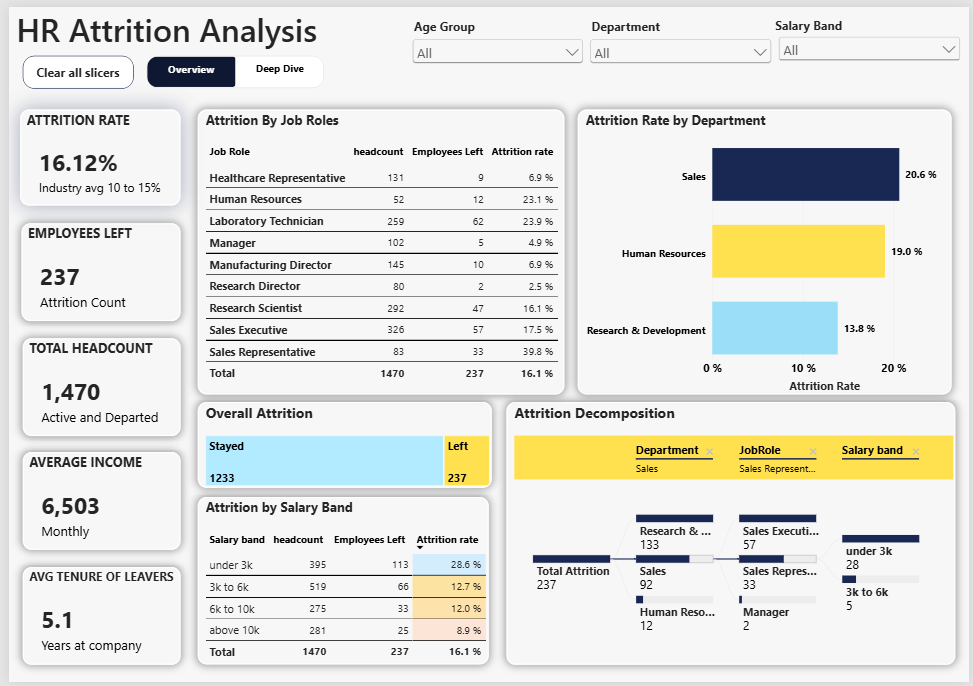

Layout of this report page (visuals, bound fields, positions):
{"tool":"powerbi","page":{"name":"Overview","canvas":[1280,900],"ordinal":0},"visuals":[{"type":"textbox","box":[10,0,410,58],"z":0},{"type":"slicer","fields":{"Values":["employees_data.Salary band"]},"box":[1022.1,34.7,251.2,38.8],"z":0,"group":"g3"},{"type":"slicer","fields":{"Values":["employees_data.Department"]},"box":[770.2,37.1,251.2,38.8],"z":0,"group":"g2"},{"type":"slicer","fields":{"Values":["employees_data.Age group"]},"box":[533,37.6,237.1,38.2],"z":0,"group":"g1"},{"type":"textbox","box":[1022.2,13,95.4,24.4],"z":1000,"group":"g3"},{"type":"group","id":"g1","title":"Group 1","box":[533,14.4,237.1,61.4],"z":1000},{"type":"textbox","box":[540.2,14.4,111.3,24.6],"z":1000,"group":"g1"},{"type":"textbox","box":[776.3,14.4,95.4,24.4],"z":1000,"group":"g2"},{"type":"group","id":"g2","title":"Group 2","box":[770.2,14.4,251.4,61.4],"z":2000},{"type":"group","id":"g3","title":"Group 2","box":[1022.1,13,251.2,60.6],"z":3000},{"type":"actionButton","box":[18.8,65,148,44],"z":4000},{"type":"pageNavigator","box":[183.1,64.6,236.7,43.3],"z":5000},{"type":"cardVisual","title":"ATTRITION RATE","fields":{"Data":["employees_data.Attrition rate"]},"box":[15,136.7,213.3,128.3],"z":6000},{"type":"cardVisual","title":"EMPLOYEES LEFT","fields":{"Data":["employees_data.Employees Left"]},"box":[16.7,288.3,211.7,130],"z":7000},{"type":"cardVisual","title":"TOTAL HEADCOUNT","fields":{"Data":["employees_data.headcount"]},"box":[18.3,441.7,210,130],"z":8000},{"type":"cardVisual","title":"AVERAGE INCOME","fields":{"Data":["employees_data.Avg monthly income"]},"box":[18.3,593.3,210,130],"z":9000},{"type":"cardVisual","title":"AVG TENURE OF LEAVERS","fields":{"Data":["employees_data.Avg Tenure of leavers"]},"box":[18.3,746.7,210,130],"z":10000},{"type":"clusteredBarChart","title":"Attrition Rate by Department","fields":{"Category":["employees_data.Department"],"Y":["employees_data.Attrition rate"]},"box":[758.3,136.7,498.3,380],"z":11000},{"type":"decompositionTreeVisual","title":"Attrition Decomposition","fields":{"Analyze":["employees_data.Employees Left"],"ExplainBy":["employees_data.Department","employees_data.JobRole","employees_data.Salary band"]},"box":[663.3,526.7,598.3,350],"z":12000},{"type":"pivotTable","title":"Attrition By Job Roles","fields":{"Rows":["employees_data.JobRole"],"Values":["employees_data.headcount","employees_data.Employees Left","employees_data.Attrition rate"]},"box":[251.2,136.2,488.8,380],"z":13000},{"type":"pivotTable","title":"Attrition by Salary Band","fields":{"Rows":["employees_data.Salary band"],"Values":["employees_data.headcount","employees_data.Employees Left","employees_data.Attrition rate"]},"box":[252,654,388,223],"z":14000},{"type":"treemap","title":"Overall Attrition ","fields":{"Values":["employees_data.Employees Left","employees_data.Employees Stayed"]},"box":[252,527,392,114],"z":15001}]}

Visuals, with their boxes in screenshot pixels (x1, y1, x2, y2), scaled from the page's 1280x900 canvas onto the 973x686 screenshot:
textbox: box(8, 0, 319, 44)
slicer - employees_data.Salary band: box(777, 26, 968, 56)
slicer - employees_data.Department: box(585, 28, 776, 58)
slicer - employees_data.Age group: box(405, 29, 585, 58)
textbox: box(777, 10, 850, 29)
"Group 1" group: box(405, 11, 585, 58)
textbox: box(411, 11, 495, 30)
textbox: box(590, 11, 663, 30)
"Group 2" group: box(585, 11, 777, 58)
"Group 2" group: box(777, 10, 968, 56)
actionButton: box(14, 50, 127, 83)
pageNavigator: box(139, 49, 319, 82)
"ATTRITION RATE" cardVisual: box(11, 104, 174, 202)
"EMPLOYEES LEFT" cardVisual: box(13, 220, 174, 319)
"TOTAL HEADCOUNT" cardVisual: box(14, 337, 174, 436)
"AVERAGE INCOME" cardVisual: box(14, 452, 174, 551)
"AVG TENURE OF LEAVERS" cardVisual: box(14, 569, 174, 668)
"Attrition Rate by Department" clusteredBarChart: box(576, 104, 955, 394)
"Attrition Decomposition" decompositionTreeVisual: box(504, 401, 959, 668)
"Attrition By Job Roles" pivotTable: box(191, 104, 563, 393)
"Attrition by Salary Band" pivotTable: box(192, 498, 486, 668)
"Overall Attrition " treemap: box(192, 402, 490, 489)
